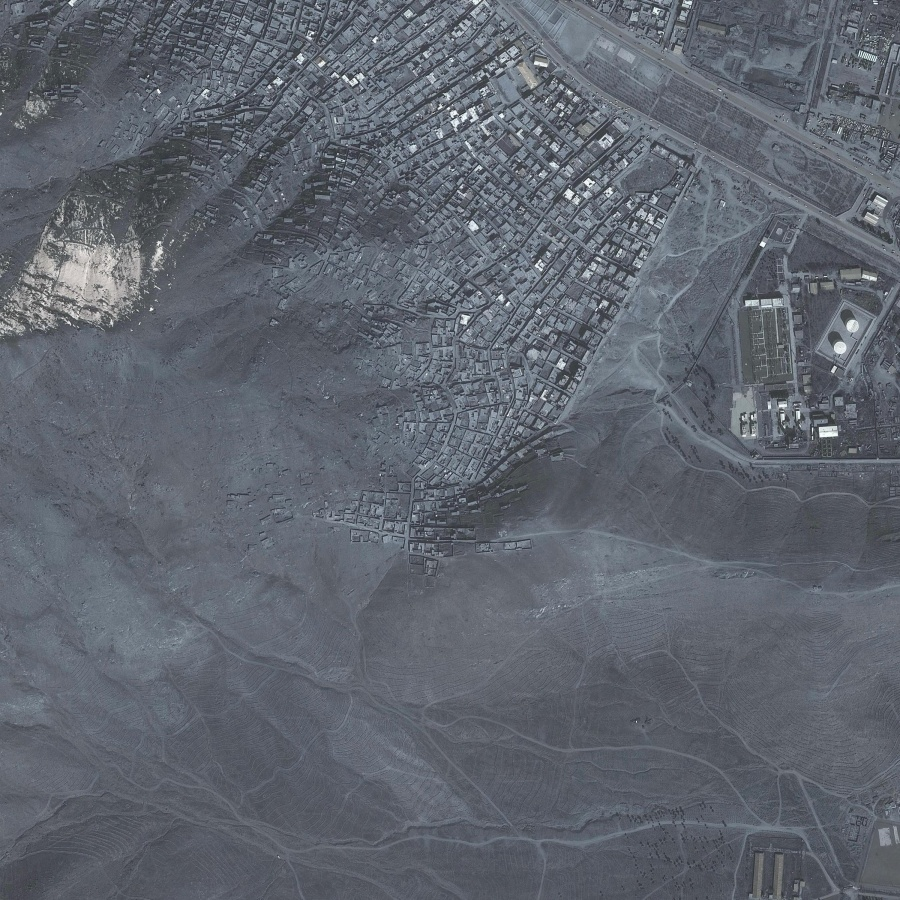PowerPlant: (740, 261, 883, 452)
